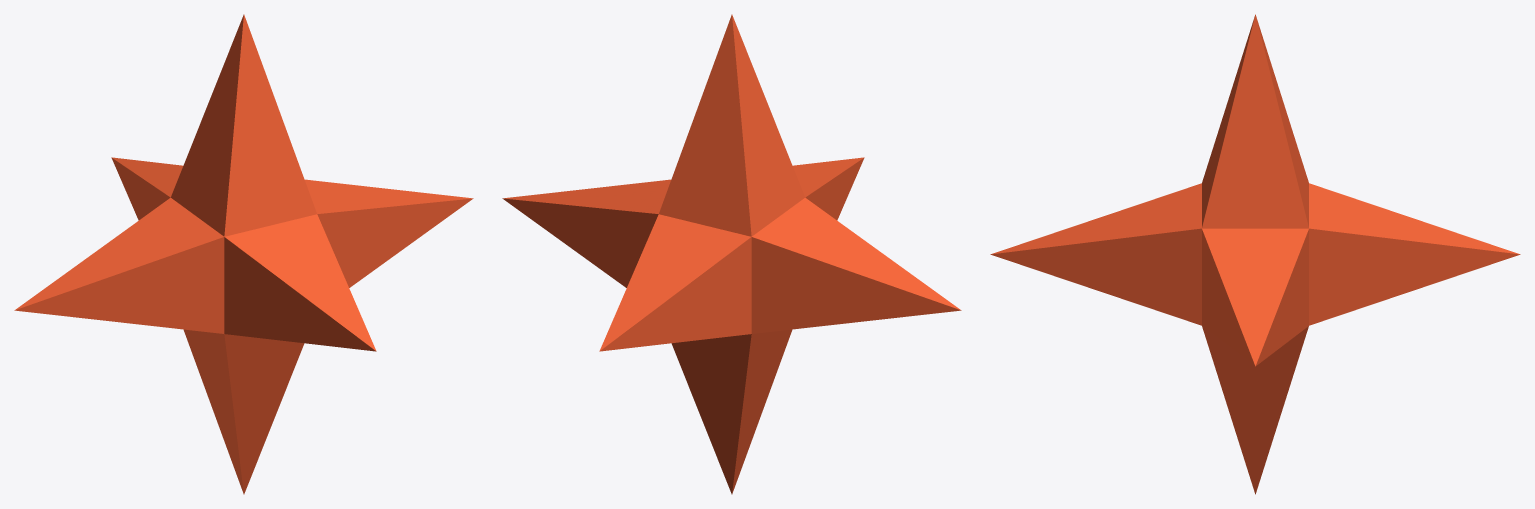
Rendered from enemy.fbx.
3 renders of one model, left to right at view 1: azimuth 30°, elevation 25°; view 2: azimuth 150°, elevation 25°; view 3: azimuth 270°, elevation 25°, orthographic.
Visible parts, largest first — view 1: enemy; view 2: enemy; view 3: enemy.
Boxes of the visible parts, bbox=[...] form: enemy: bbox=[14, 14, 473, 494]; enemy: bbox=[502, 14, 961, 494]; enemy: bbox=[990, 14, 1520, 494].
Size of the model in its own units: 15.67 by 15.67 by 15.67.
1 material, 1 textured.
